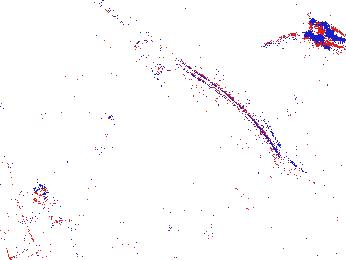X-ray fish: (25, 179, 79, 258)
glassfish: (126, 30, 301, 183)
